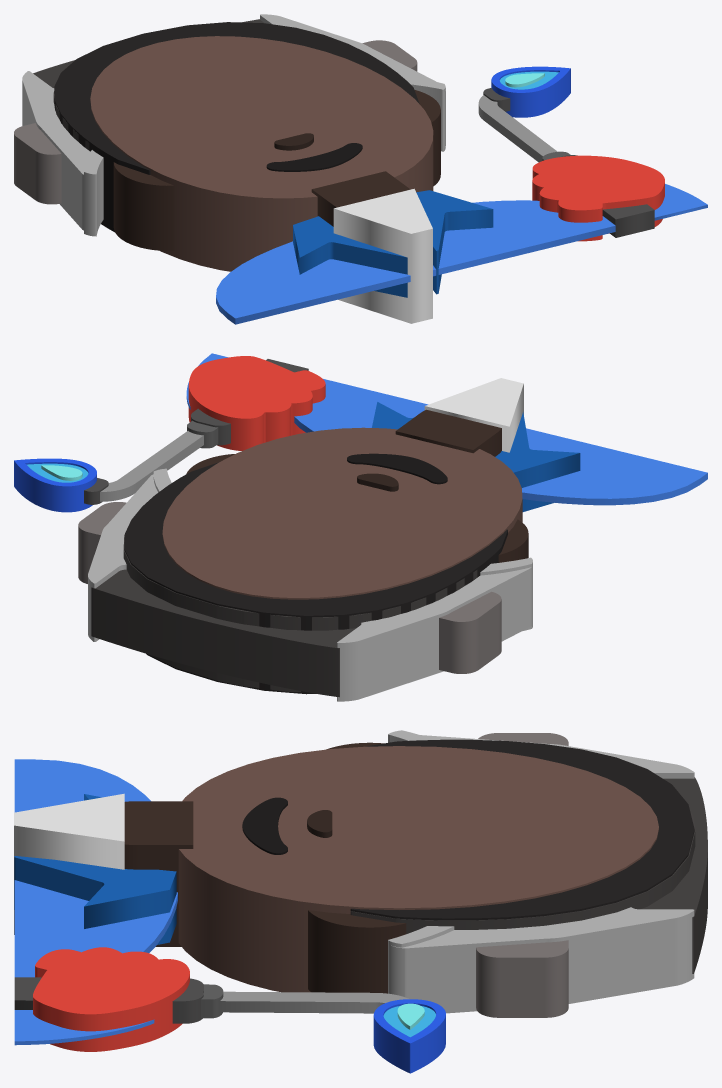
The model's file is emoji_u1f468_1f3ff_200d_1f3ed.glb.
3 renders of one model, top to bottom at view 1: azimuth 30°, elevation 25°; view 2: azimuth 150°, elevation 25°; view 3: azimuth 270°, elevation 25°, orthographic. The views are drawn at different scales.
Visible parts, largest first — view 1: emoji_u1f468_1f3ff_200d_1f3ed; view 2: emoji_u1f468_1f3ff_200d_1f3ed; view 3: emoji_u1f468_1f3ff_200d_1f3ed.
Part boxes in pixels (bbox=[...]): emoji_u1f468_1f3ff_200d_1f3ed: bbox=[14, 14, 707, 324]; emoji_u1f468_1f3ff_200d_1f3ed: bbox=[14, 353, 707, 701]; emoji_u1f468_1f3ff_200d_1f3ed: bbox=[14, 730, 707, 1073].
Bounding box in the file's own units: 0.0336 × 0.0058 × 0.0334.
